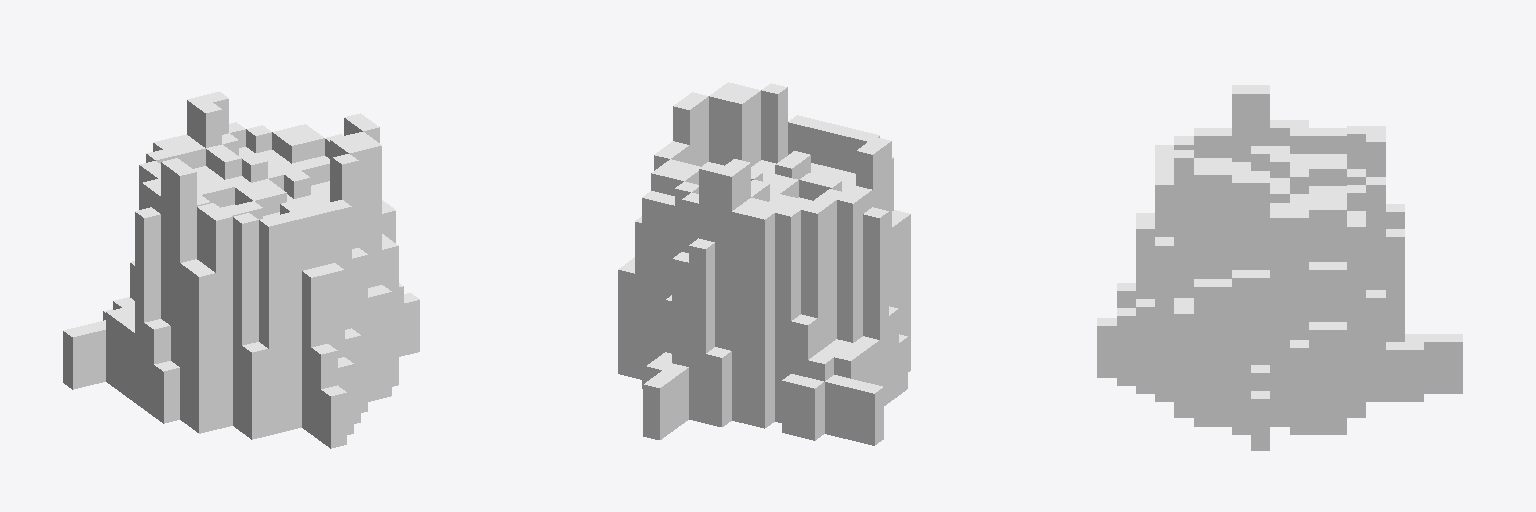
Rendered from Snow_Environment_Deco_Tile_02-3.obj.
3 views of the same model, side by side, from view 1: azimuth 30°, elevation 25°; view 2: azimuth 150°, elevation 25°; view 3: azimuth 270°, elevation 25° (orthographic).
Parts seen in each view (by area): view 1: Snow_Environment_Deco_Tile_02-3; view 2: Snow_Environment_Deco_Tile_02-3; view 3: Snow_Environment_Deco_Tile_02-3.
Boxes of the visible parts, <box> form: Snow_Environment_Deco_Tile_02-3: <box>63,91,419,448</box>; Snow_Environment_Deco_Tile_02-3: <box>618,82,910,445</box>; Snow_Environment_Deco_Tile_02-3: <box>1097,85,1462,450</box>.
Bounding box in the file's own units: 18 × 14 × 19.